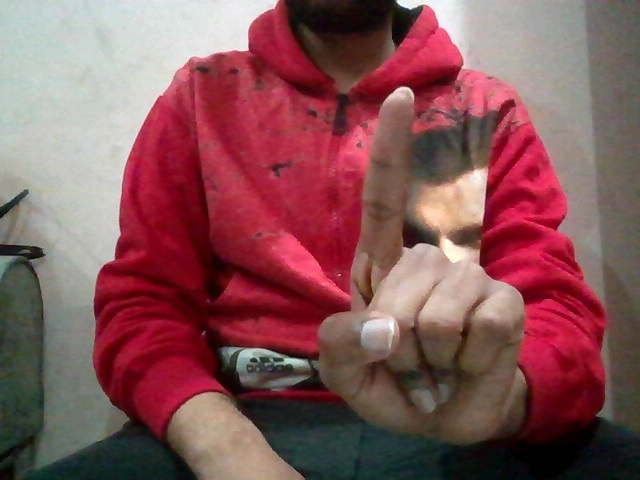D: (305, 84, 540, 445)
